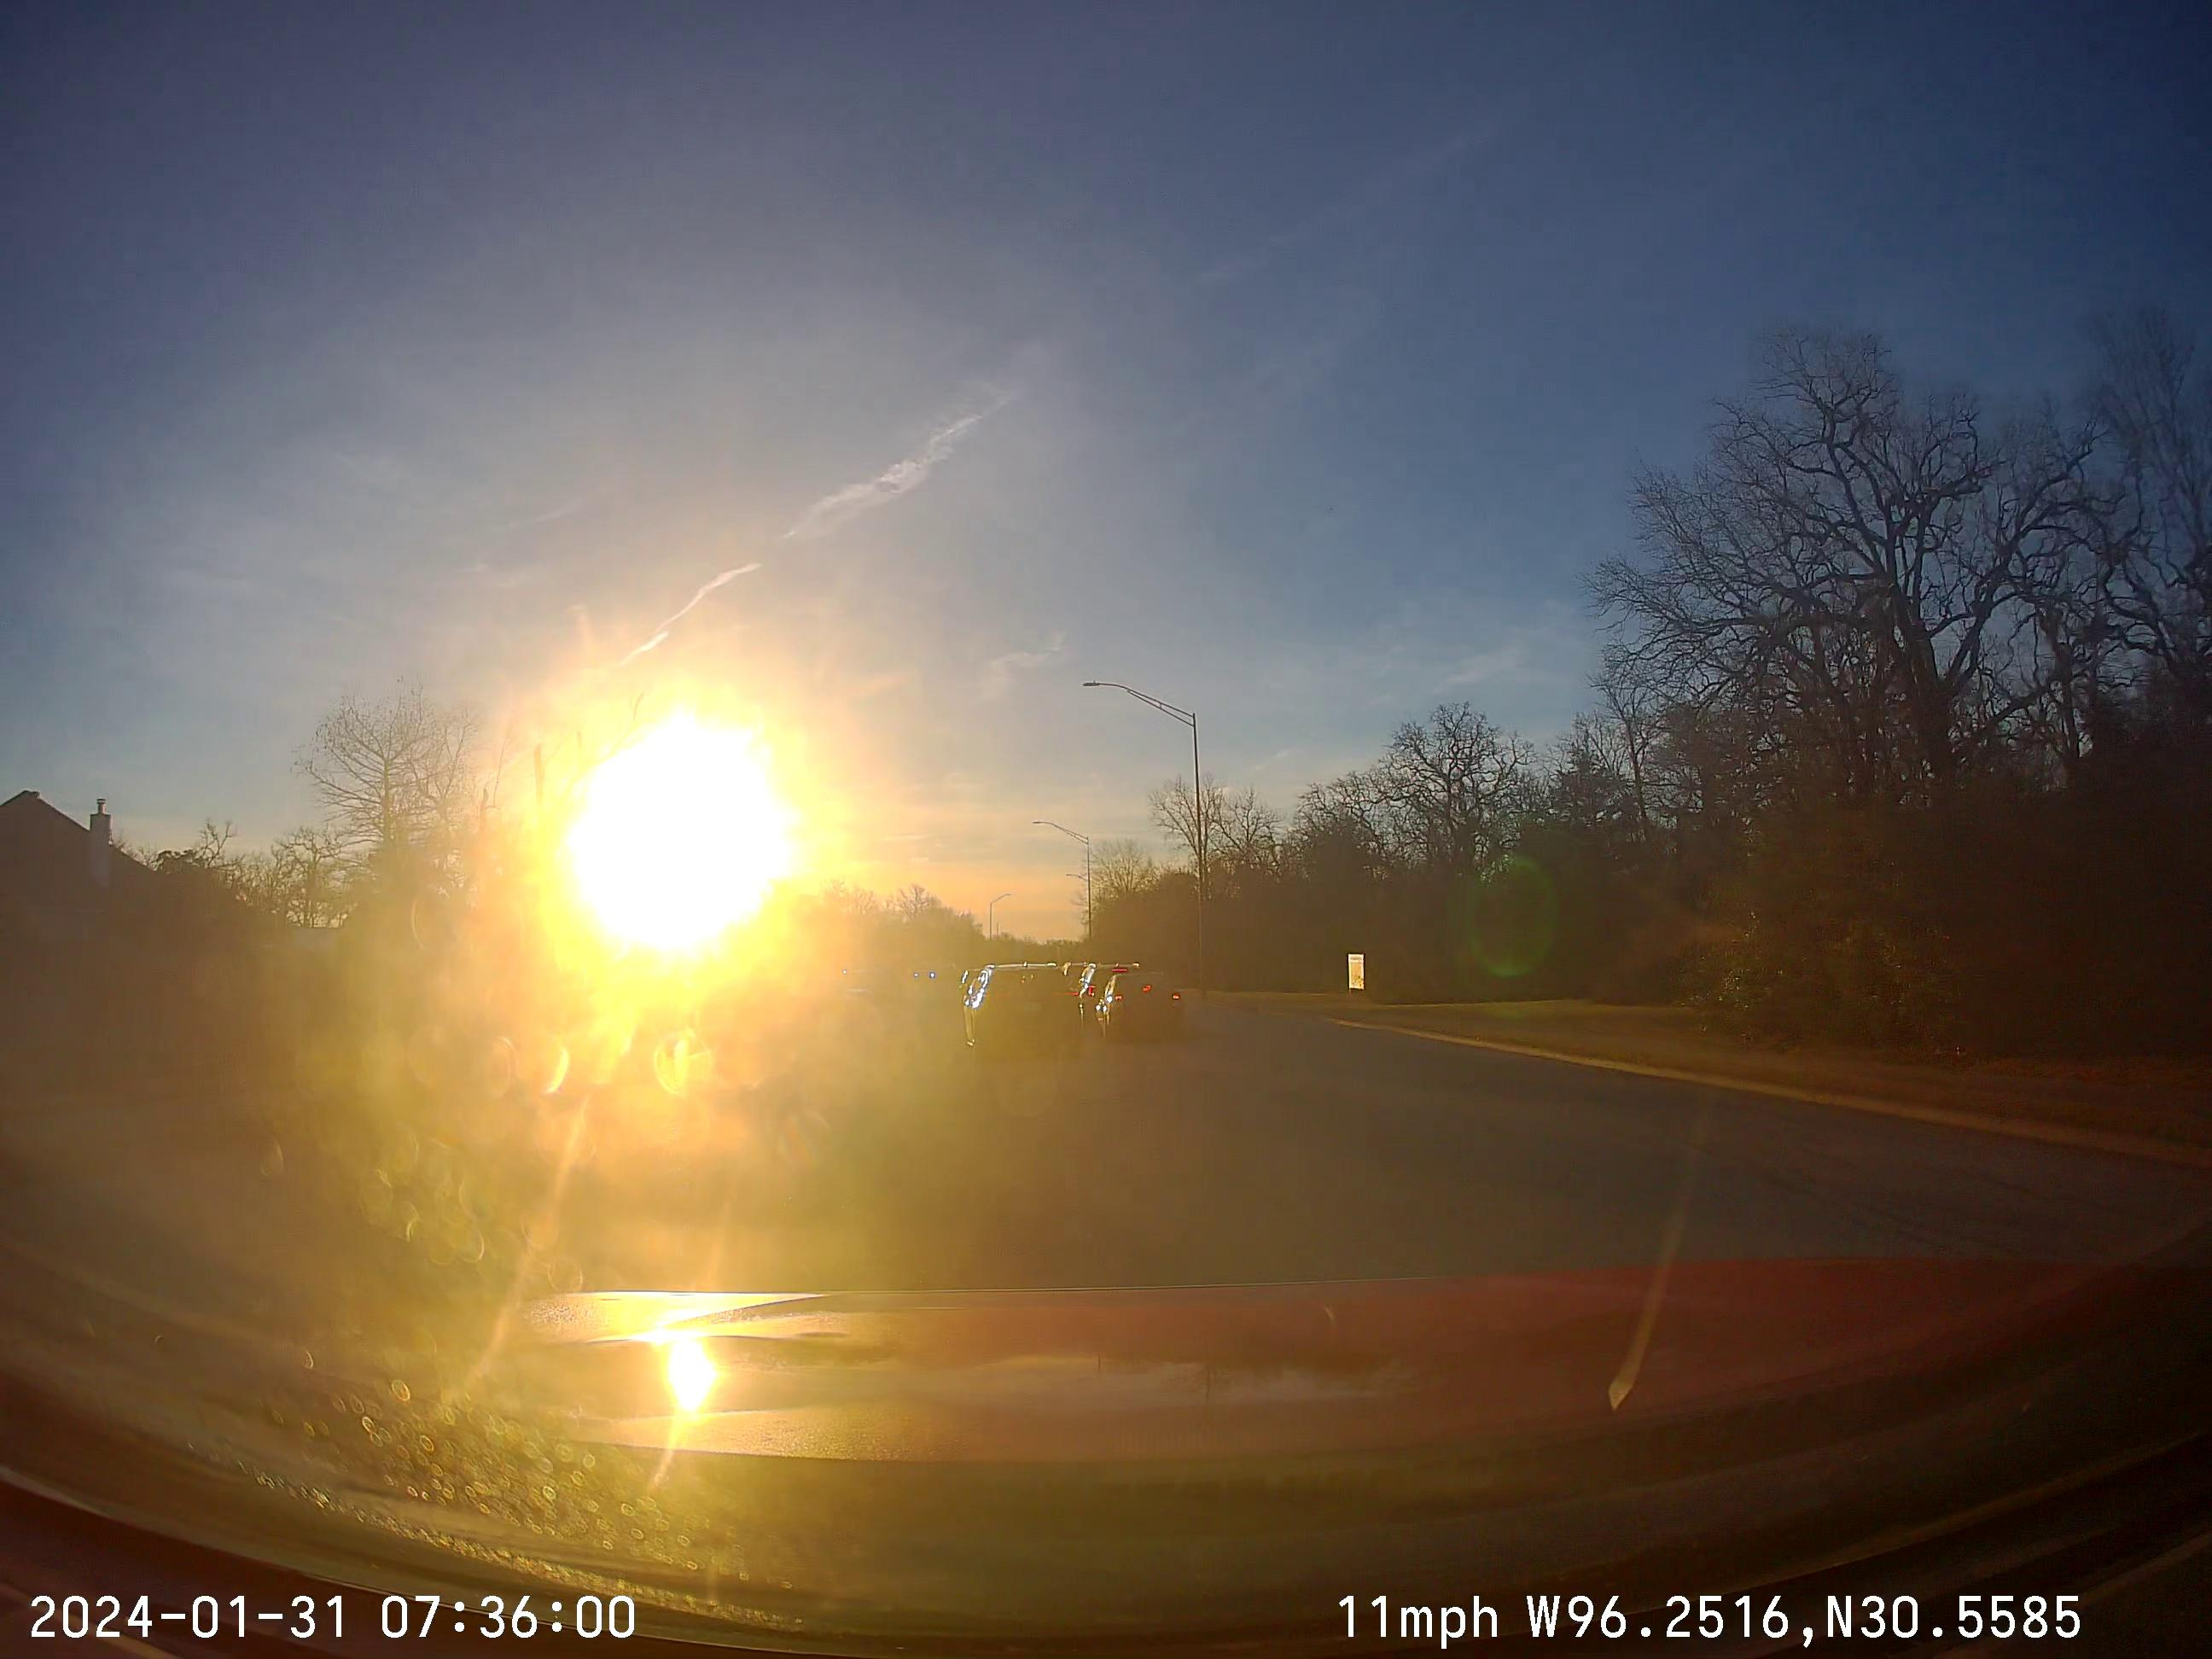car: (0, 803, 2212, 1654)
truck: (963, 964, 1183, 1058)
